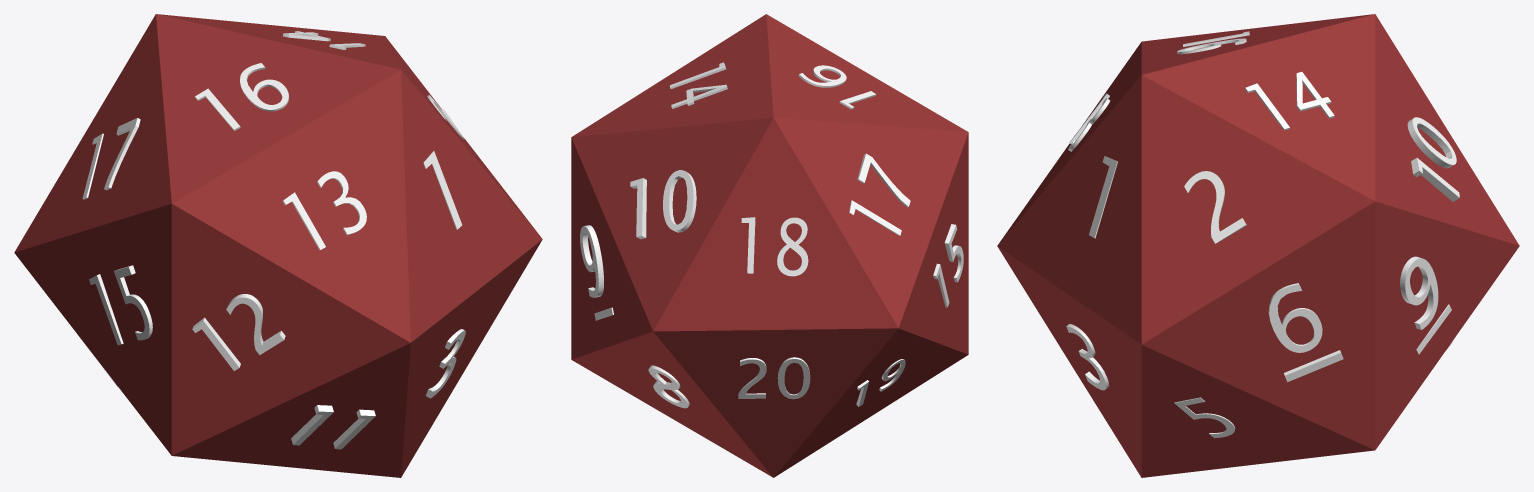
File: dado_de_20_lados.glb
The picture shows the model from 3 angles, left to right: view 1: azimuth 30°, elevation 25°; view 2: azimuth 150°, elevation 25°; view 3: azimuth 270°, elevation 25°; orthographic projection. The views are drawn at different scales.
Visible parts, largest first — view 1: pPlatonic1, typeMesh17, typeMesh11, typeMesh10, typeMesh16, typeMesh22, typeMesh7, typeMesh4, typeMesh1; view 2: pPlatonic1, typeMesh21, typeMesh3, typeMesh2, typeMesh7, typeMesh18, typeMesh11, typeMesh10, typeMesh14, typeMesh15, typeMesh5; view 3: pPlatonic1, typeMesh21, typeMesh18, typeMesh12, typeMesh14, typeMesh6, typeMesh4, typeMesh1, typeMesh10, typeMesh9, typeMesh20, typeMesh16.
Boxes of the visible parts, bbox=[...] form: pPlatonic1: bbox=[14, 14, 542, 477]; typeMesh17: bbox=[192, 294, 285, 370]; typeMesh11: bbox=[89, 265, 152, 345]; typeMesh10: bbox=[195, 63, 288, 130]; typeMesh16: bbox=[282, 171, 366, 250]; typeMesh22: bbox=[291, 405, 375, 449]; typeMesh7: bbox=[82, 118, 140, 199]; typeMesh4: bbox=[425, 329, 465, 398]; typeMesh1: bbox=[423, 151, 462, 229]; pPlatonic1: bbox=[571, 14, 968, 477]; typeMesh21: bbox=[630, 170, 696, 239]; typeMesh3: bbox=[741, 217, 808, 276]; typeMesh2: bbox=[738, 357, 810, 399]; typeMesh7: bbox=[849, 153, 910, 235]; typeMesh18: bbox=[580, 225, 603, 297]; typeMesh11: bbox=[933, 224, 963, 307]; typeMesh10: bbox=[798, 65, 876, 109]; typeMesh14: bbox=[670, 62, 727, 108]; typeMesh15: bbox=[648, 365, 689, 408]; typeMesh5: bbox=[856, 359, 905, 406]; pPlatonic1: bbox=[997, 14, 1519, 477]; typeMesh21: bbox=[1407, 117, 1459, 201]; typeMesh18: bbox=[1400, 256, 1438, 329]; typeMesh12: bbox=[1268, 283, 1322, 352]; typeMesh14: bbox=[1245, 72, 1334, 130]; typeMesh6: bbox=[1184, 171, 1246, 243]; typeMesh4: bbox=[1066, 324, 1109, 390]; typeMesh1: bbox=[1089, 156, 1117, 238]; typeMesh10: bbox=[1177, 31, 1249, 54]; typeMesh9: bbox=[1174, 397, 1235, 438]; typeMesh20: bbox=[1284, 350, 1343, 382]; typeMesh16: bbox=[1068, 93, 1110, 151].
Bounding box in the file's own units: 0.0179 × 0.017 × 0.02.
